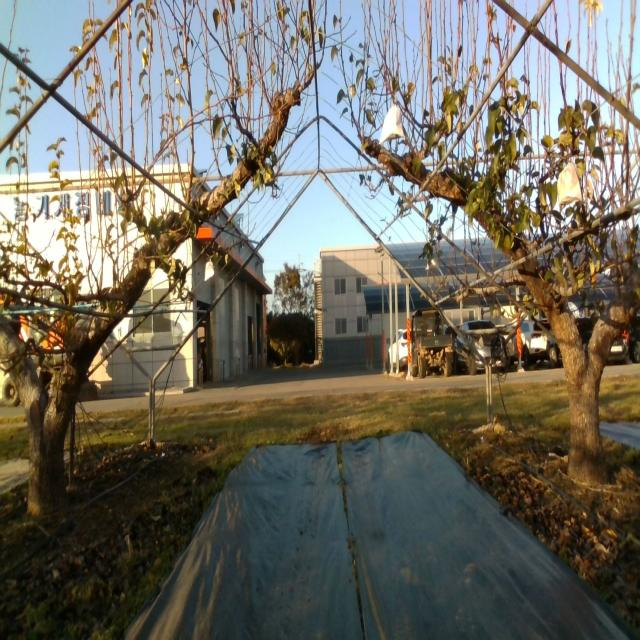pearbags: (378, 94, 404, 146), (557, 161, 583, 211), (425, 252, 439, 274), (204, 258, 215, 281)
